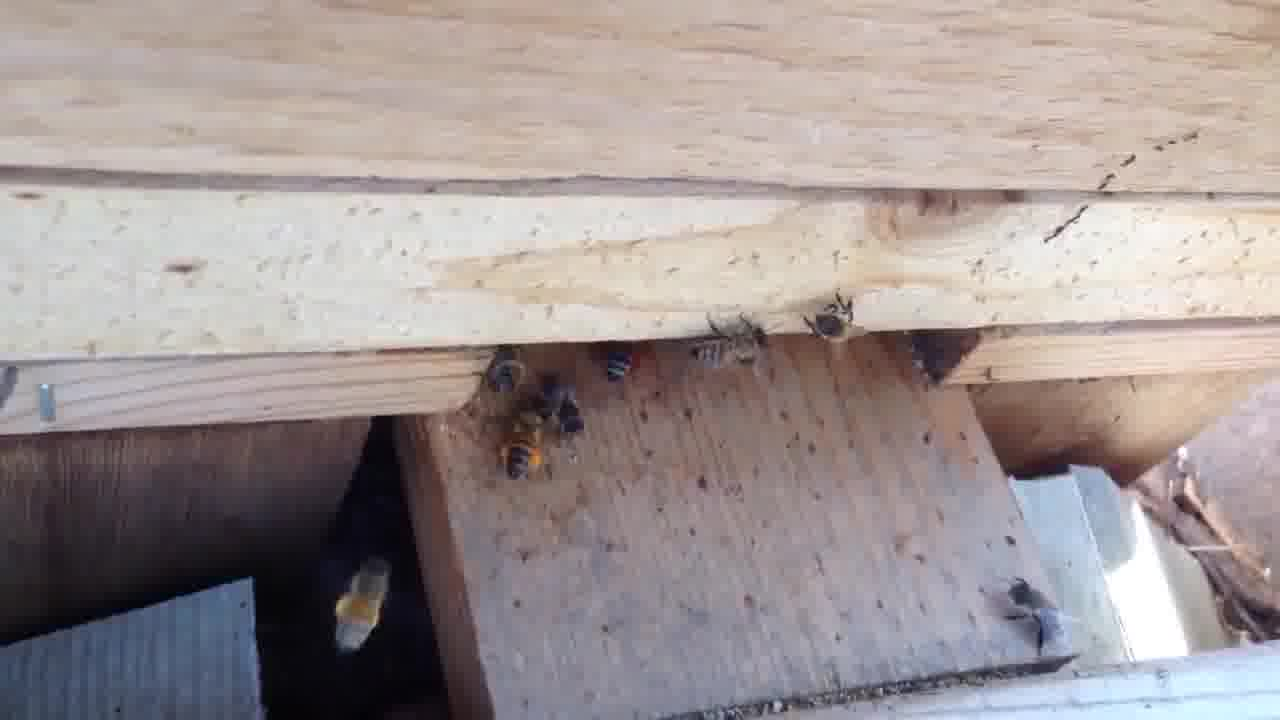pollen: (334, 558, 389, 645), (498, 401, 552, 477)
